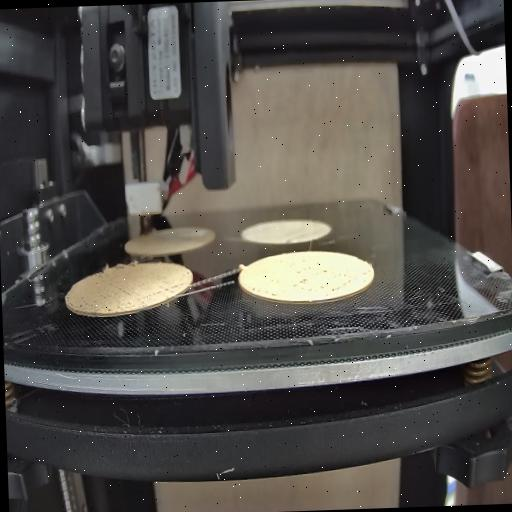under_extrusion: (288, 256, 355, 296), (80, 277, 132, 313), (142, 283, 186, 300), (249, 280, 278, 302)
